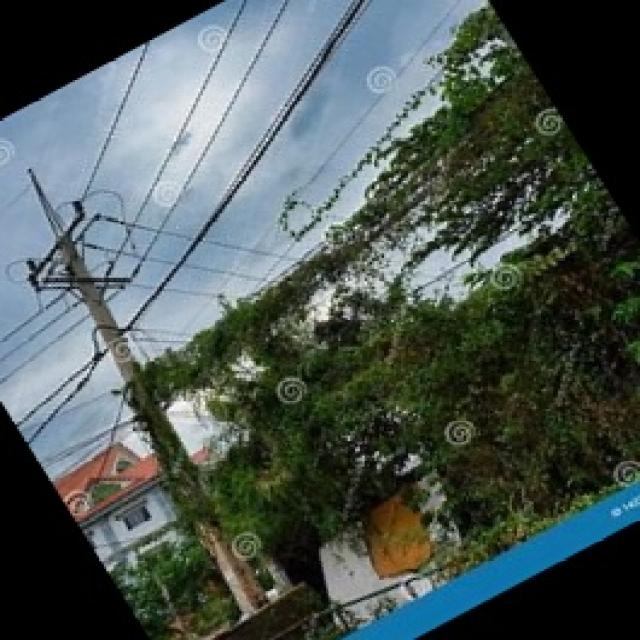utility poles: (128, 75, 581, 426)
